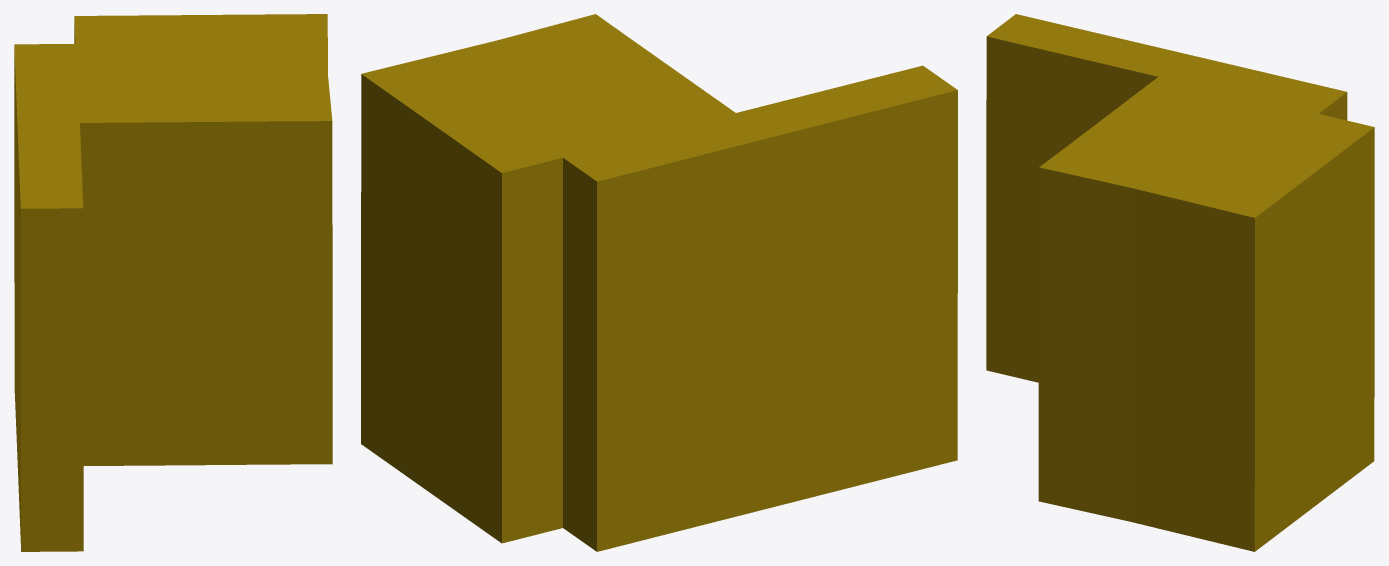
The picture shows the model from 3 angles, left to right: view 1: azimuth 30°, elevation 25°; view 2: azimuth 150°, elevation 25°; view 3: azimuth 270°, elevation 25°; orthographic projection. The views are drawn at different scales.
Parts seen in each view (by area): view 1: 码头; view 2: 码头; view 3: 码头.
Part boxes in pixels (box(x1,y1,x2,y2)): 码头: box(14, 14, 332, 551); 码头: box(361, 14, 957, 551); 码头: box(986, 14, 1374, 551).
Bounding box in the file's own units: 50.06 × 38.22 × 40.26.
